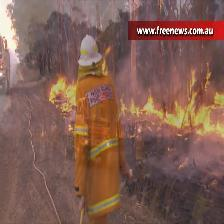fire: (120, 78, 222, 138), (40, 67, 76, 113)
